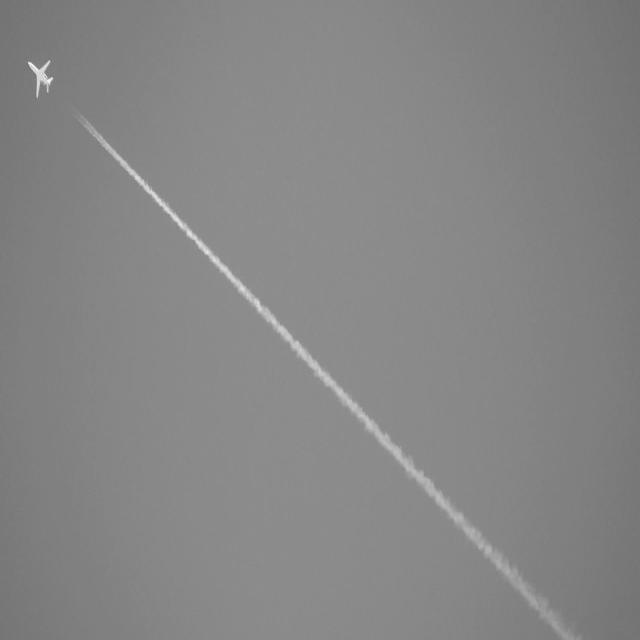aeroplane: (26, 53, 55, 104)
